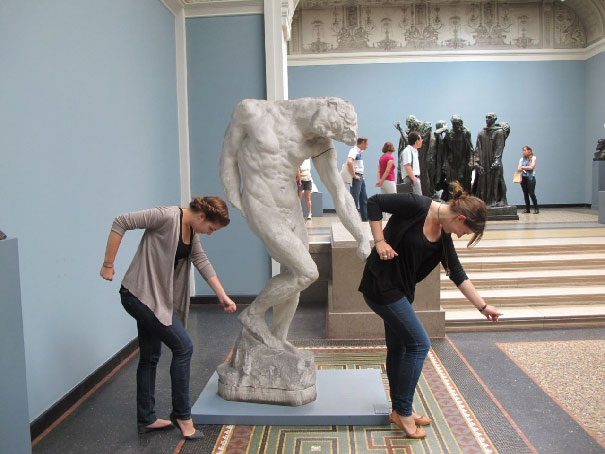person: (357, 191, 508, 441), (96, 192, 243, 443), (345, 136, 378, 222), (514, 145, 542, 216), (399, 130, 426, 194), (375, 140, 400, 194)
person-like: (216, 91, 377, 354), (473, 109, 513, 208), (393, 112, 435, 180), (443, 114, 475, 194)
